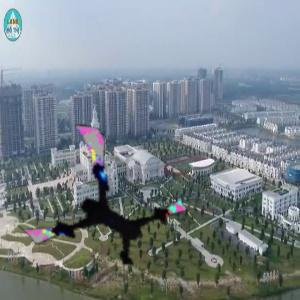drone: (23, 138, 171, 286)
